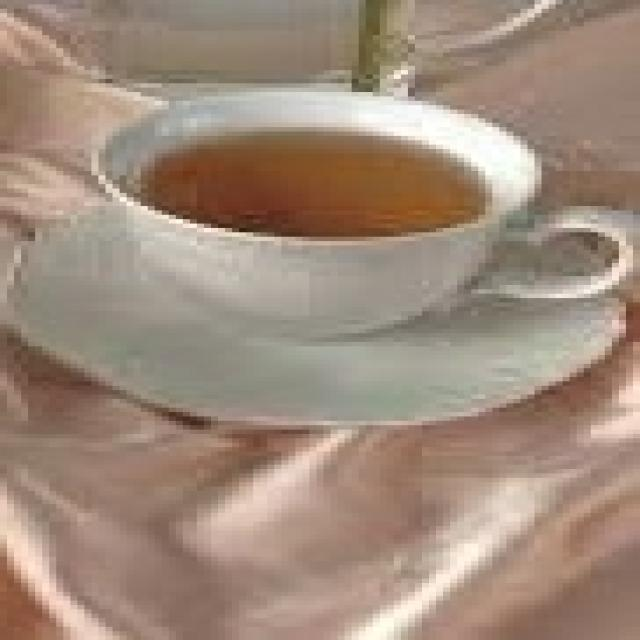taza: (91, 42, 636, 348)
